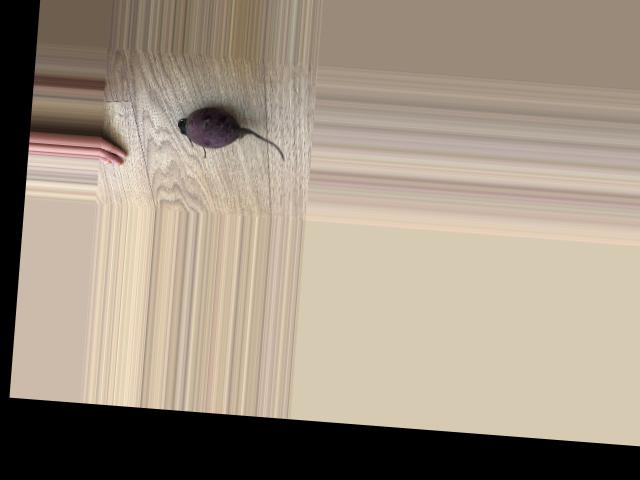beet: (176, 105, 288, 164)
